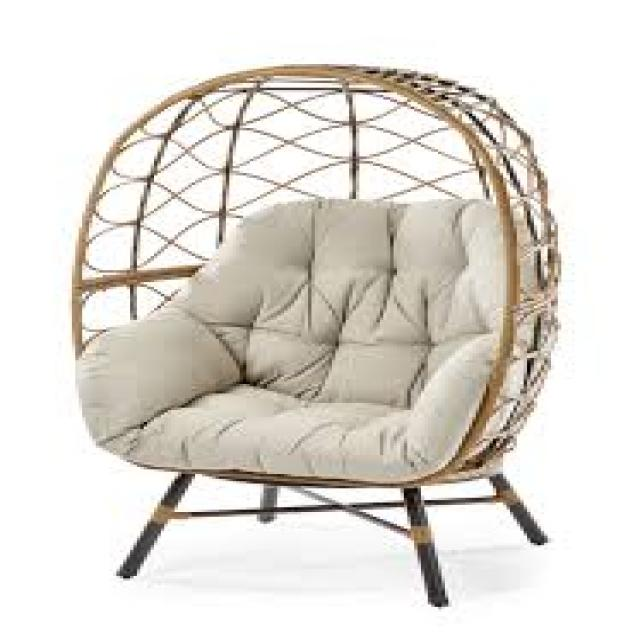chair: (23, 33, 640, 570)
